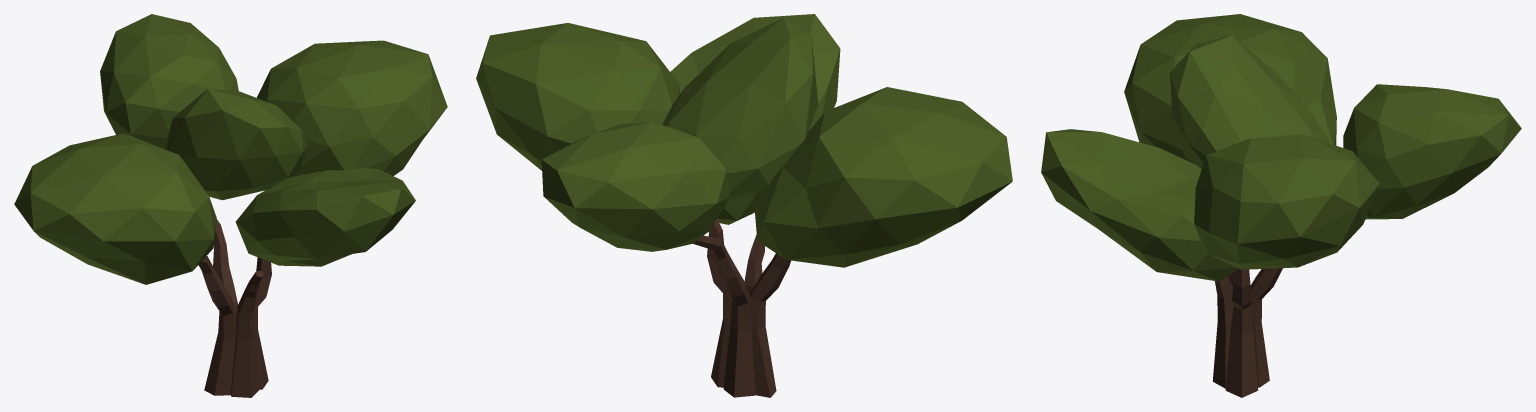
Rendered from SM_tree_greek_06.fbx.
The picture shows the model from 3 angles, left to right: view 1: azimuth 30°, elevation 25°; view 2: azimuth 150°, elevation 25°; view 3: azimuth 270°, elevation 25°; orthographic projection. The views are drawn at different scales.
Visible parts, largest first — view 1: Object041; view 2: Object041; view 3: Object041.
Part boxes in pixels (left/top/right/bottom): Object041: left=14, top=14, right=447, bottom=397; Object041: left=476, top=14, right=1012, bottom=397; Object041: left=1041, top=14, right=1521, bottom=397.
Size of the model in its own units: 262 by 182 by 241.
